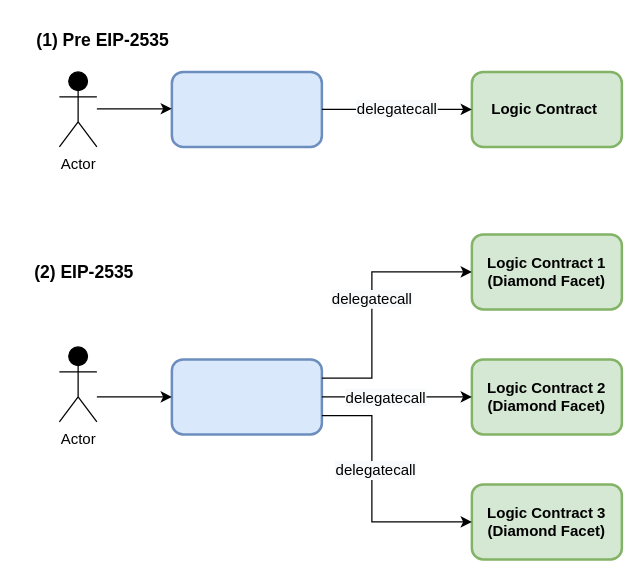
This 644x581 diagram has some shape labels left out. Each missing label, with the centre of its shape:
Proxy Contract (Diamond Storage): the point at 246,396
Proxy Contract (Storage): the point at 246,109
